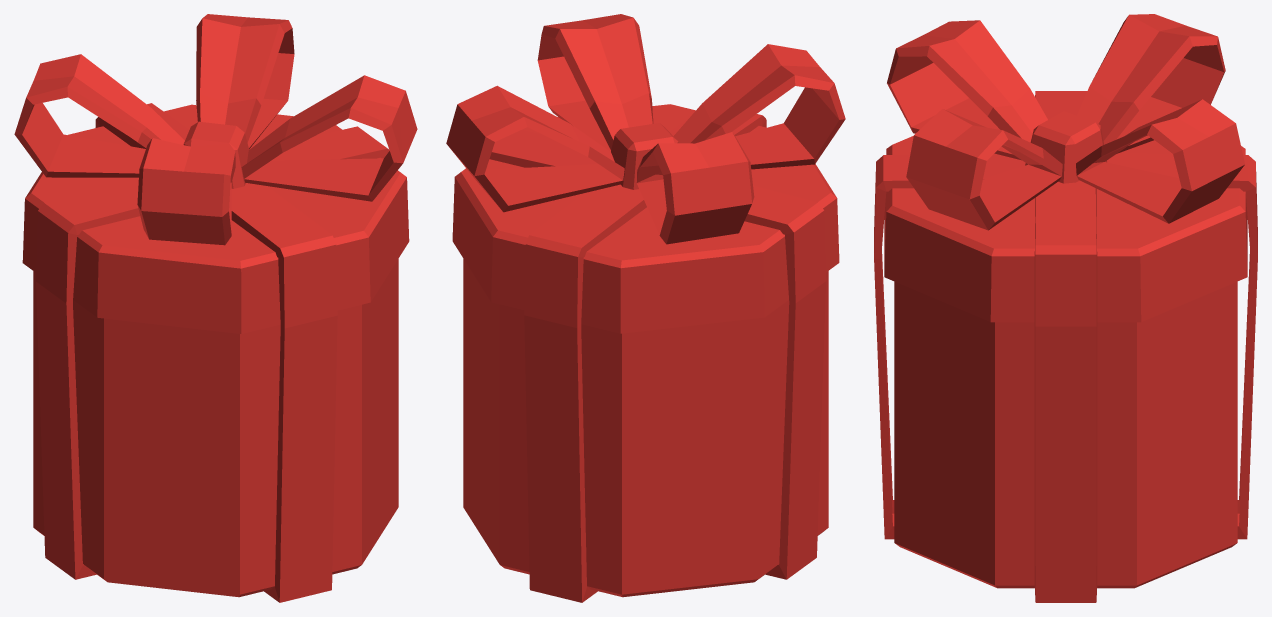
The model's file is SM_Gift_Christmas_Cylinder_B.fbx.
The picture shows the model from 3 angles, left to right: view 1: azimuth 30°, elevation 25°; view 2: azimuth 150°, elevation 25°; view 3: azimuth 270°, elevation 25°; orthographic projection.
Parts seen in each view (by area): view 1: gift-christmas-cylinder-b; view 2: gift-christmas-cylinder-b; view 3: gift-christmas-cylinder-b.
Boxes of the visible parts, x1,y1,x2,y2 form: gift-christmas-cylinder-b: [14, 14, 417, 602]; gift-christmas-cylinder-b: [446, 14, 845, 602]; gift-christmas-cylinder-b: [874, 14, 1257, 602].
Size of the model in its own units: 0.2762 by 0.3609 by 0.2762.
